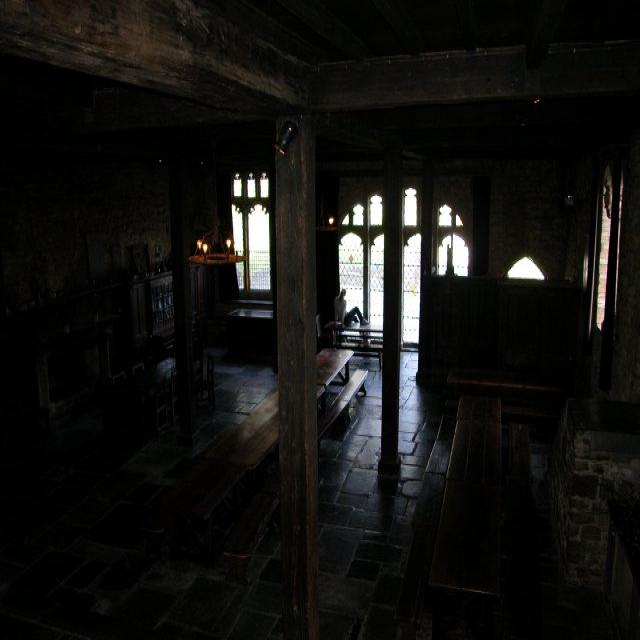People: (326, 286, 369, 326)
Table: (164, 333, 358, 539), (423, 371, 521, 617), (329, 319, 401, 379)
